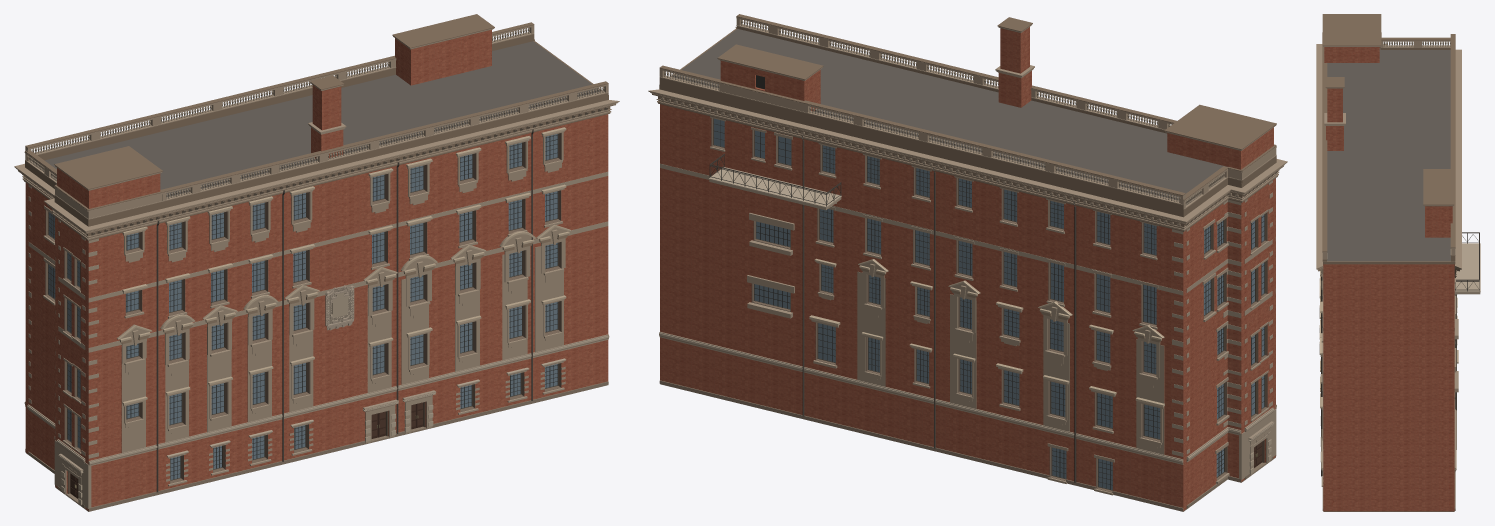
The model's file is hongkou-general-hospital-1914-kitchen-block-lod.glb.
The picture shows the model from 3 angles, left to right: view 1: azimuth 30°, elevation 25°; view 2: azimuth 150°, elevation 25°; view 3: azimuth 270°, elevation 25°; orthographic projection. The views are drawn at different scales.
Visible parts, largest first — view 1: 公济医院旧楼东部（1914年后勤楼）; view 2: 公济医院旧楼东部（1914年后勤楼）; view 3: 公济医院旧楼东部（1914年后勤楼）.
Boxes of the visible parts, box(x1,y1,x2,y2) form: 公济医院旧楼东部（1914年后勤楼）: box(14, 14, 619, 511); 公济医院旧楼东部（1914年后勤楼）: box(648, 14, 1287, 511); 公济医院旧楼东部（1914年后勤楼）: box(1316, 14, 1480, 511).
Size of the model in its own units: 45.85 by 29.91 by 14.19.
Materials: 26 (1 with a texture image).
